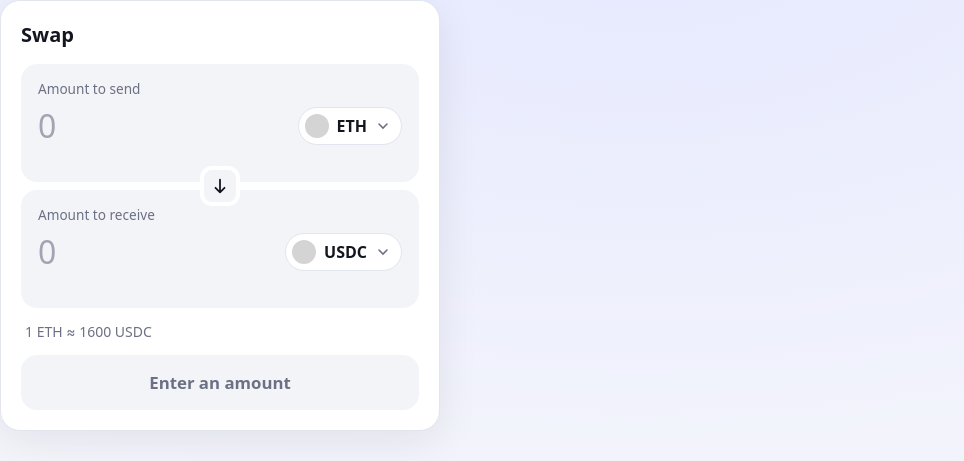
Test: SwapForm › computes the receive amount from the send amount, and vice versa
This screenshot has width=964, height=461.
Type "2" into the field labelled "Amount to send" at (162, 126), box [38,104,286,147]
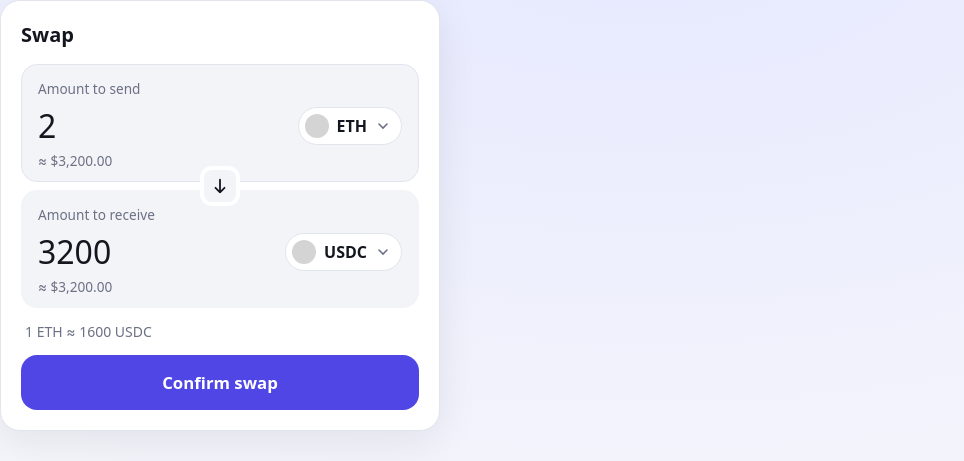
Check: the text "≈ $3,200.00" is shown 2 times, box [38,151,112,170]; [38,277,112,296]
Check: the field labelled "Amount to receive" holds "3200"
Replace the text in the field labelled "Amount to receive" with "800" at (156, 252), box [38,230,273,273]
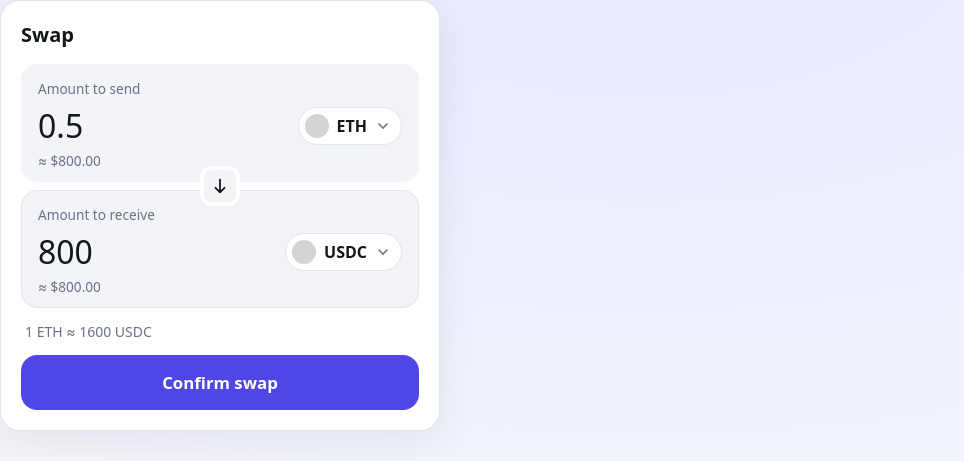
Check: the field labelled "Amount to send" holds "0.5", box [38,104,286,147]
